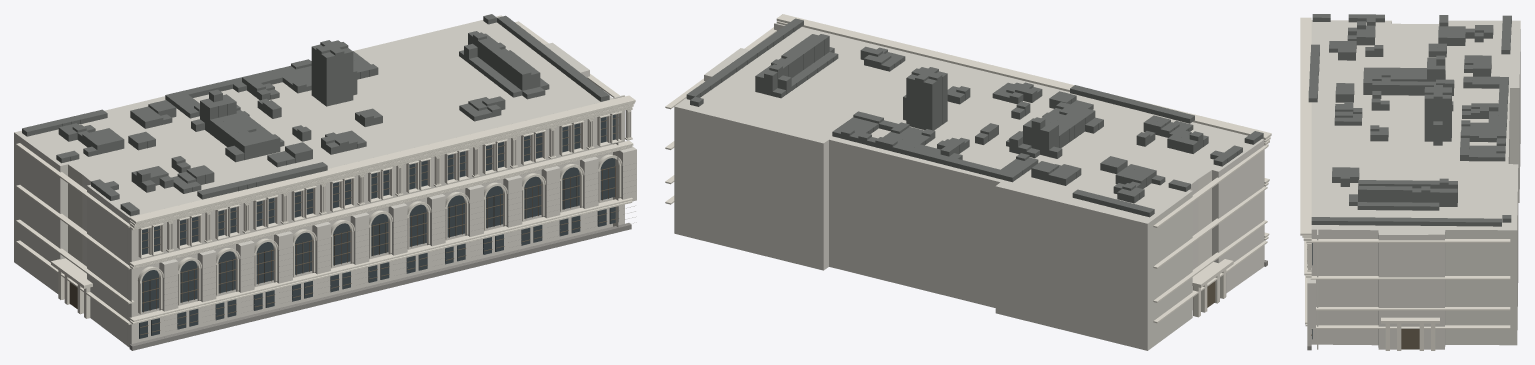
Rendered from cultural_center.glb.
3 views of the same model, side by side, from view 1: azimuth 30°, elevation 25°; view 2: azimuth 150°, elevation 25°; view 3: azimuth 270°, elevation 25° (orthographic). The views are drawn at different scales.
Parts seen in each view (by area): view 1: Indiana limestone, Raised limestone mouldings, Roof membrane, Deep window glazing, Bronze window frames, Granite plinth, Recessed limestone mortar; view 2: Indiana limestone, Roof membrane, Raised limestone mouldings; view 3: Indiana limestone, Roof membrane, Raised limestone mouldings, Bronze window frames.
Boxes of the visible parts, box(x1,y1,x2,y2) form: Indiana limestone: box(14, 15, 636, 347); Raised limestone mouldings: box(16, 21, 635, 324); Roof membrane: box(22, 14, 609, 216); Deep window glazing: box(139, 114, 618, 338); Bronze window frames: box(69, 117, 618, 335); Granite plinth: box(129, 223, 631, 350); Recessed limestone mortar: box(164, 111, 636, 337); Indiana limestone: box(674, 23, 1264, 350); Roof membrane: box(686, 18, 1263, 217); Raised limestone mouldings: box(665, 14, 1271, 323); Indiana limestone: box(1307, 20, 1520, 349); Roof membrane: box(1308, 14, 1511, 226); Raised limestone mouldings: box(1300, 17, 1510, 350); Bronze window frames: box(1311, 329, 1419, 349).
Bounding box in the file's own units: 116 × 39.5 × 48.6.
